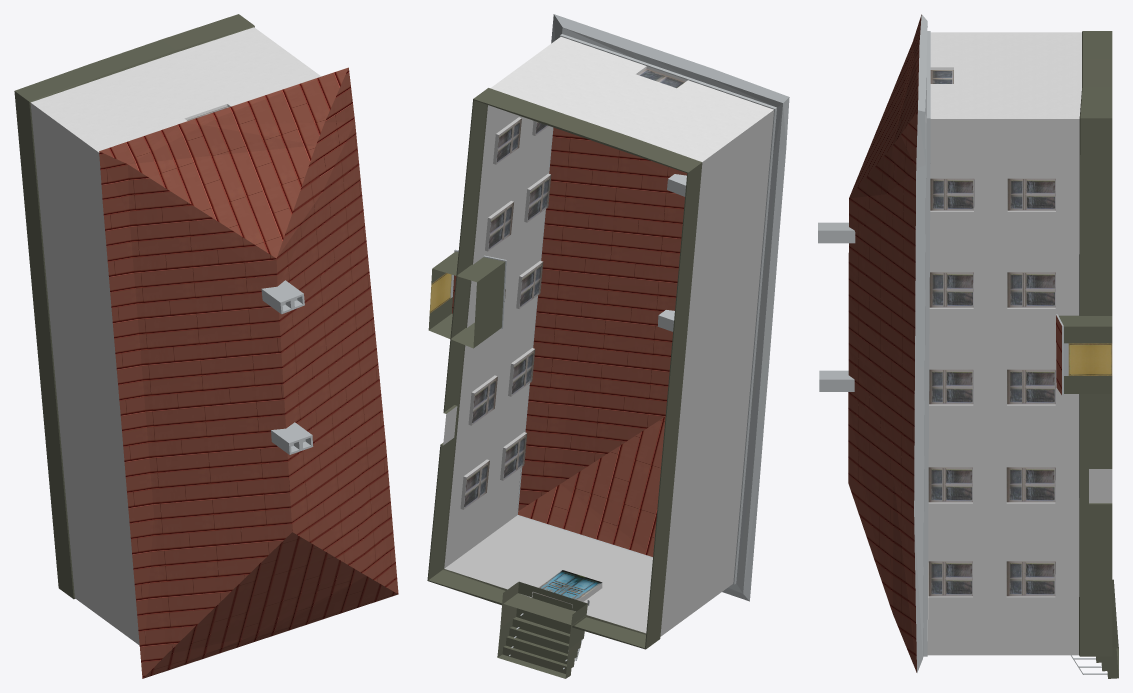
The model's file is Aia_15.obj.
The picture shows the model from 3 angles, left to right: view 1: azimuth 30°, elevation 25°; view 2: azimuth 150°, elevation 25°; view 3: azimuth 270°, elevation 25°; orthographic projection. The views are drawn at different scales.
Visible parts, largest first — view 1: Aia_15; view 2: Aia_15; view 3: Aia_15.
Boxes of the visible parts, left/top/right/bottom form: Aia_15: left=14, top=14, right=398, bottom=678; Aia_15: left=427, top=14, right=789, bottom=678; Aia_15: left=818, top=14, right=1118, bottom=678.
Size of the model in its own units: 11.74 by 22.39 by 10.28.
